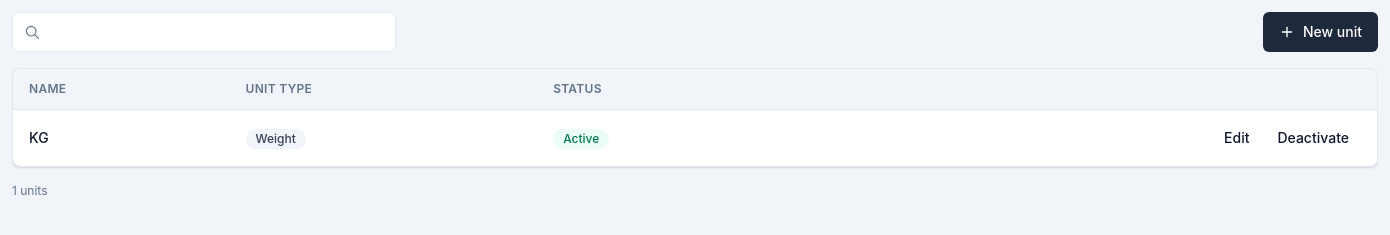
Test: UomMasterPanel › shows a search-specific empty state when nothing matches
Expected: the text "KG" is shown, [13, 110, 230, 166]
Step 1. Type "zzz" into the search field named "search units by name" → x=204, y=32, box [12, 12, 396, 52]
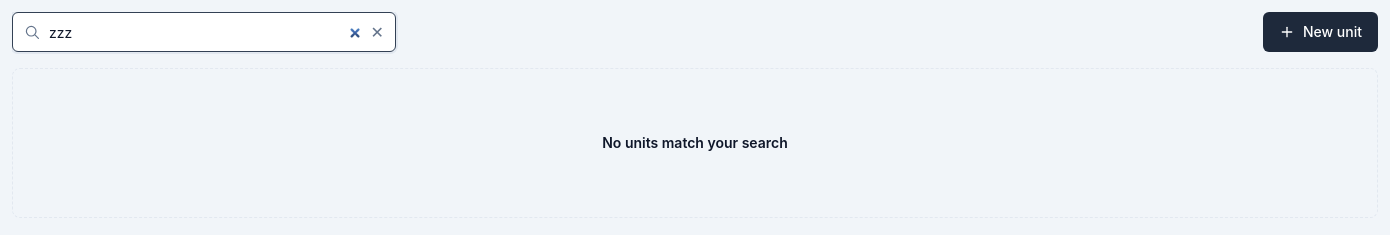
Result: the text "No units match your search" is shown at [602, 133, 788, 153]
